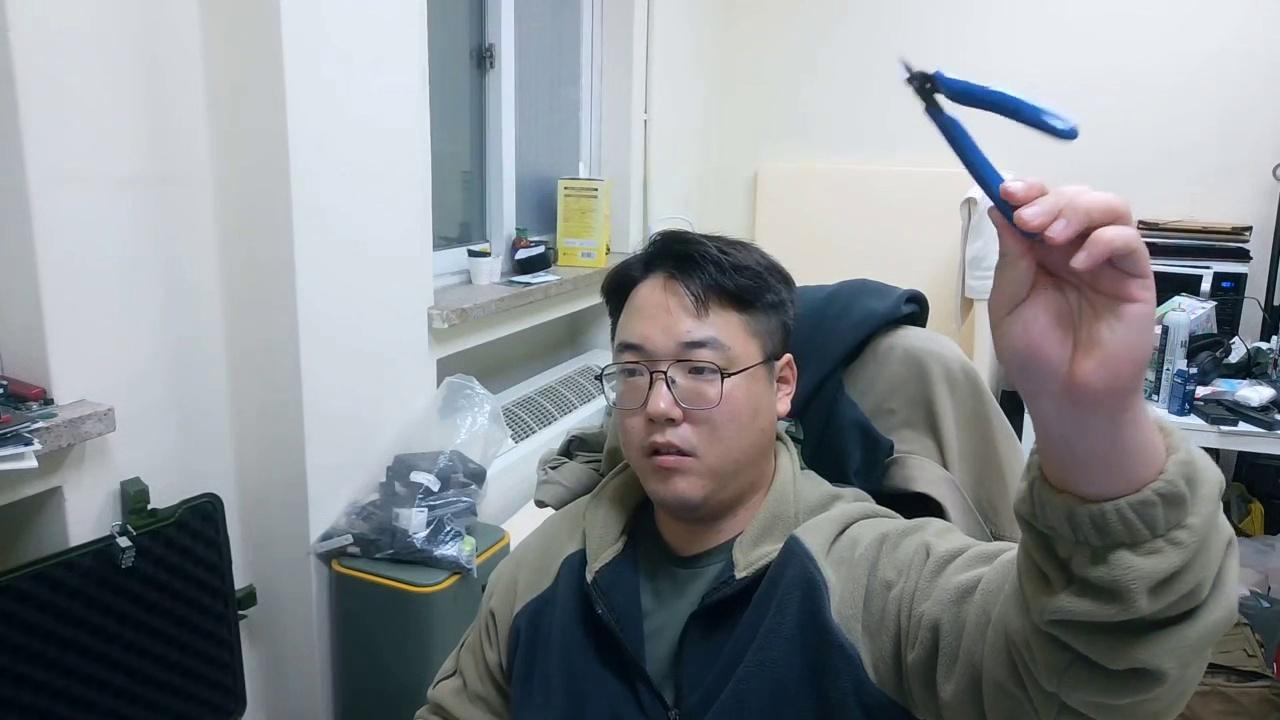blue_pliers: (899, 56, 1082, 239)
